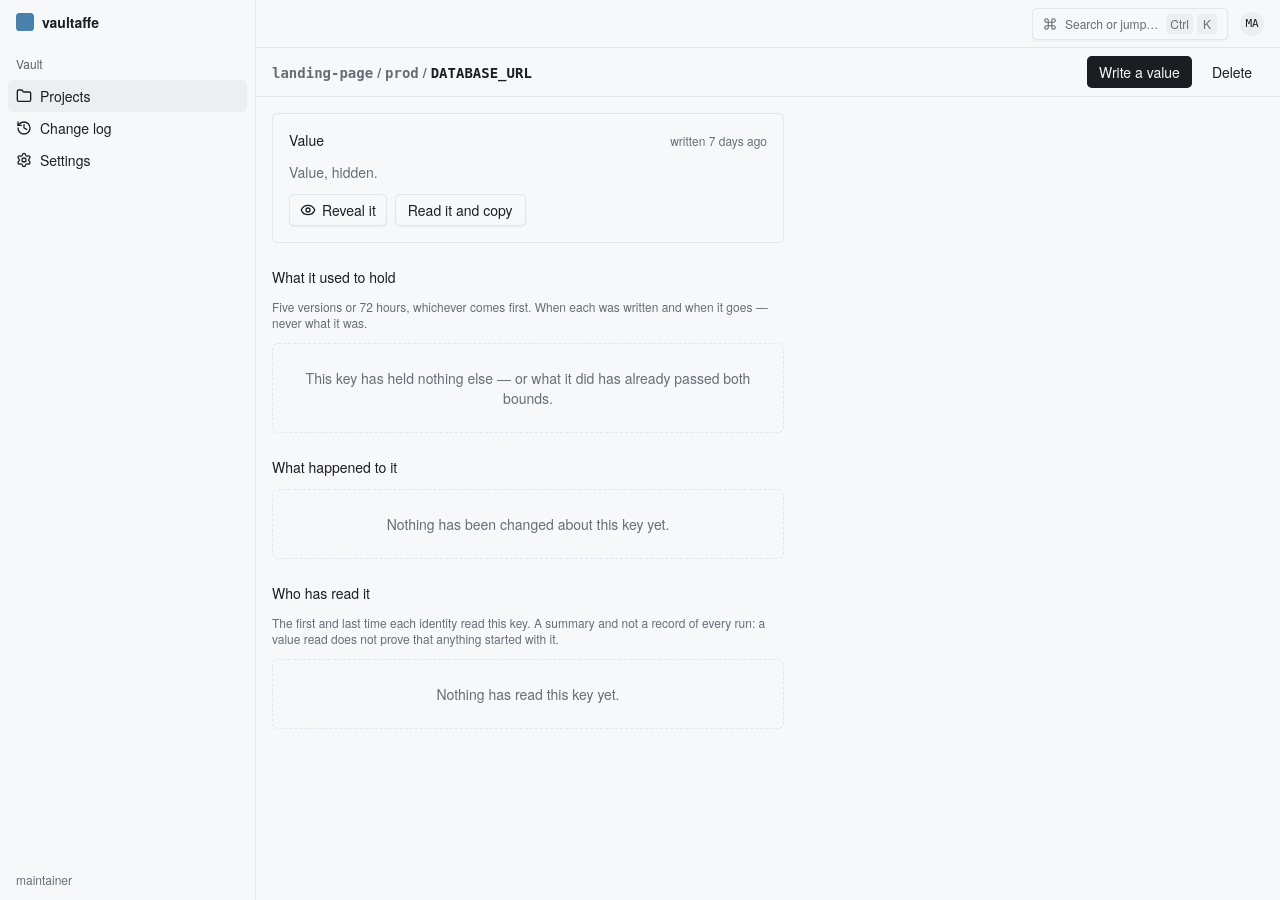
Test: one key › reveals one key with one request, and takes it back
Click the button "Reveal it" at (338, 210), box [289,194,387,226]
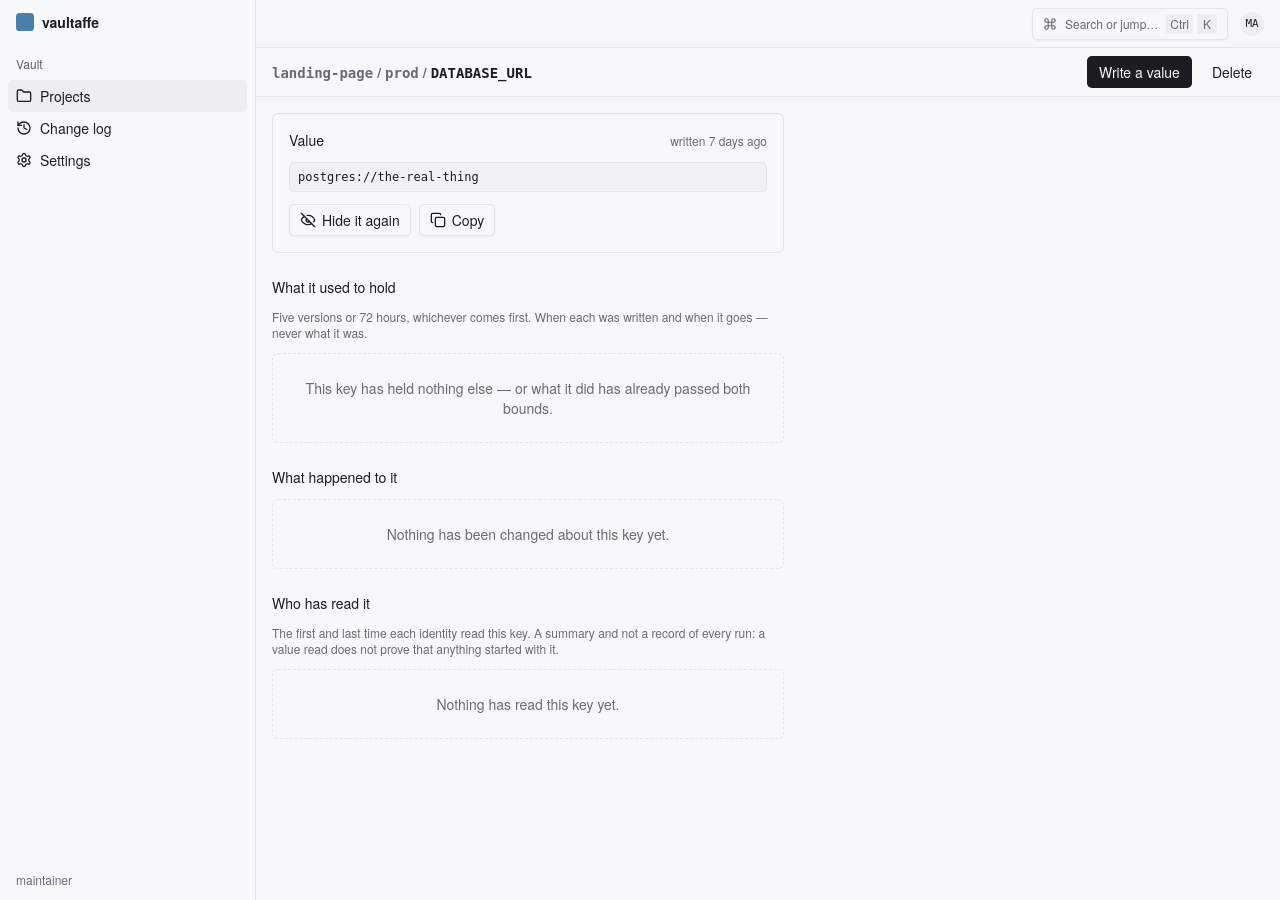
Now the text "postgres://the-real-thing" is shown, box [289,162,767,192]
Click the button "Hide it again" at (350, 220), box [289,204,411,236]
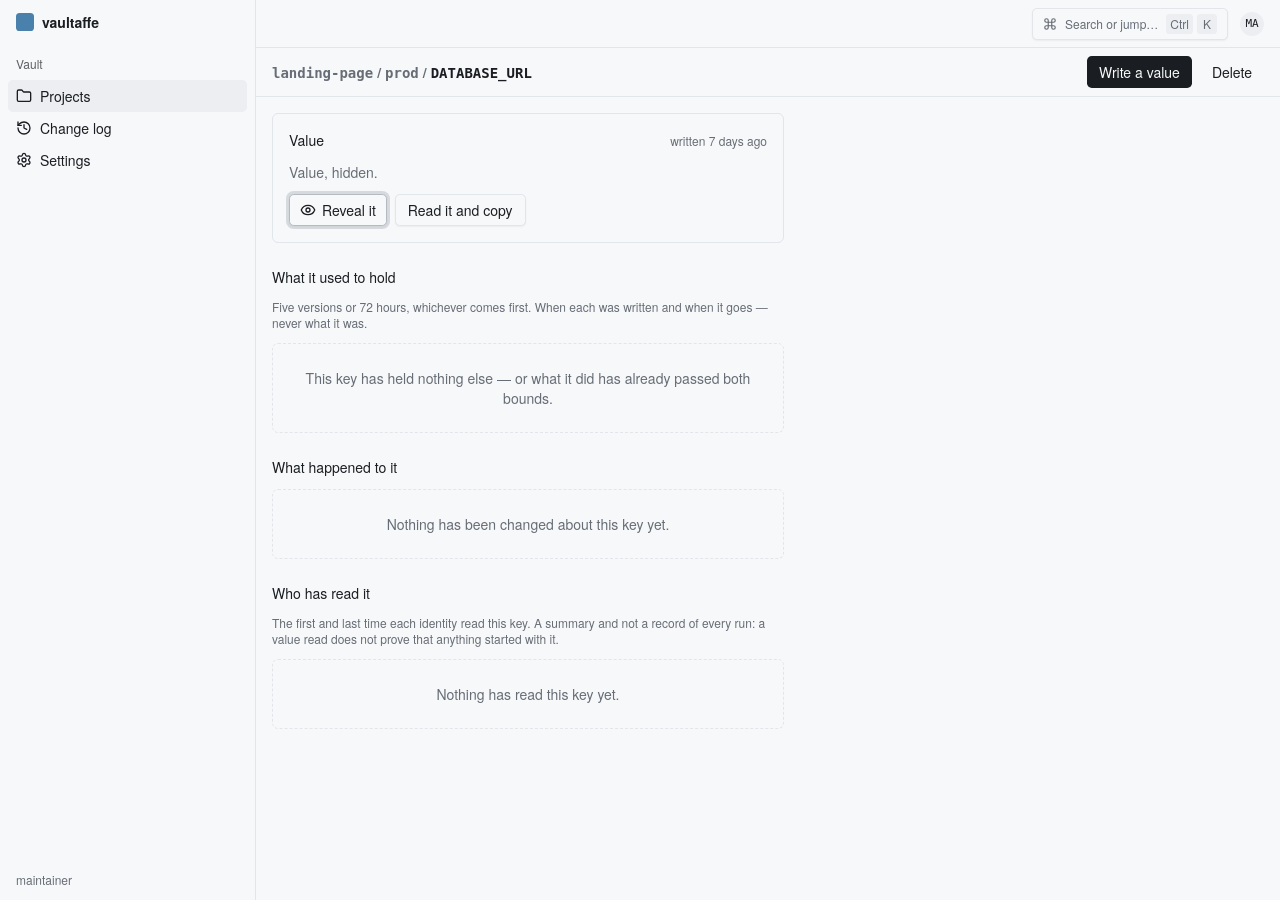
Now the text "postgres://the-real-thing" is gone
Now the text "Value, hidden." is shown, box [289,162,378,182]
